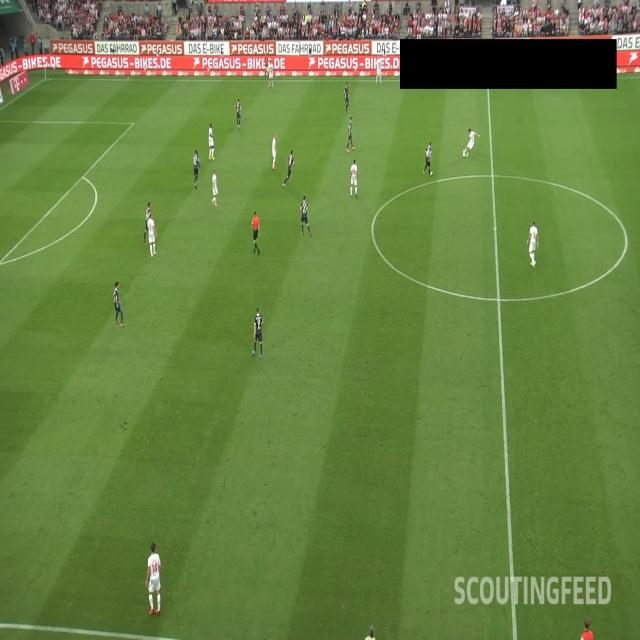ball: (462, 150, 467, 158)
